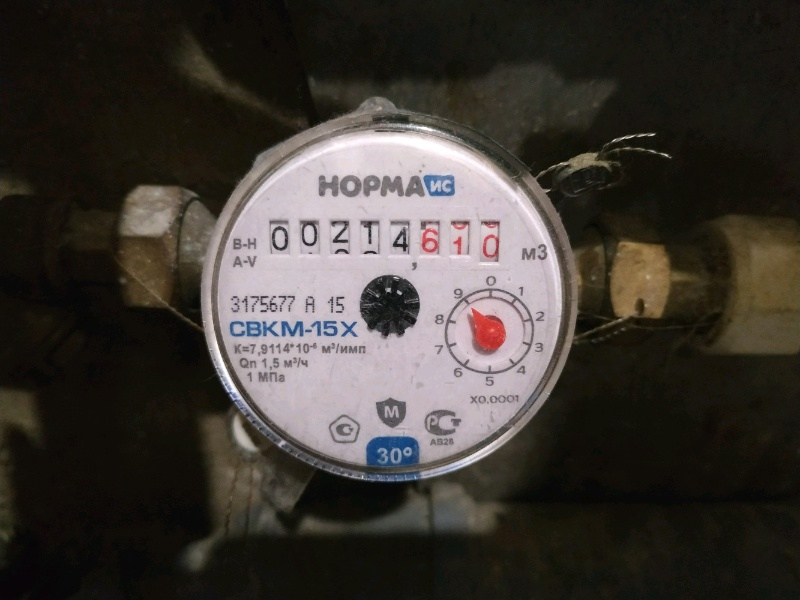meter: (260, 215, 511, 265)
